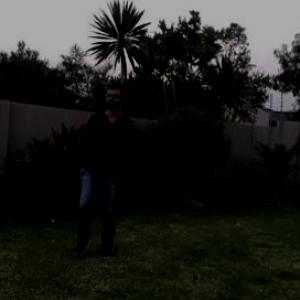follow: (70, 74, 134, 270)
